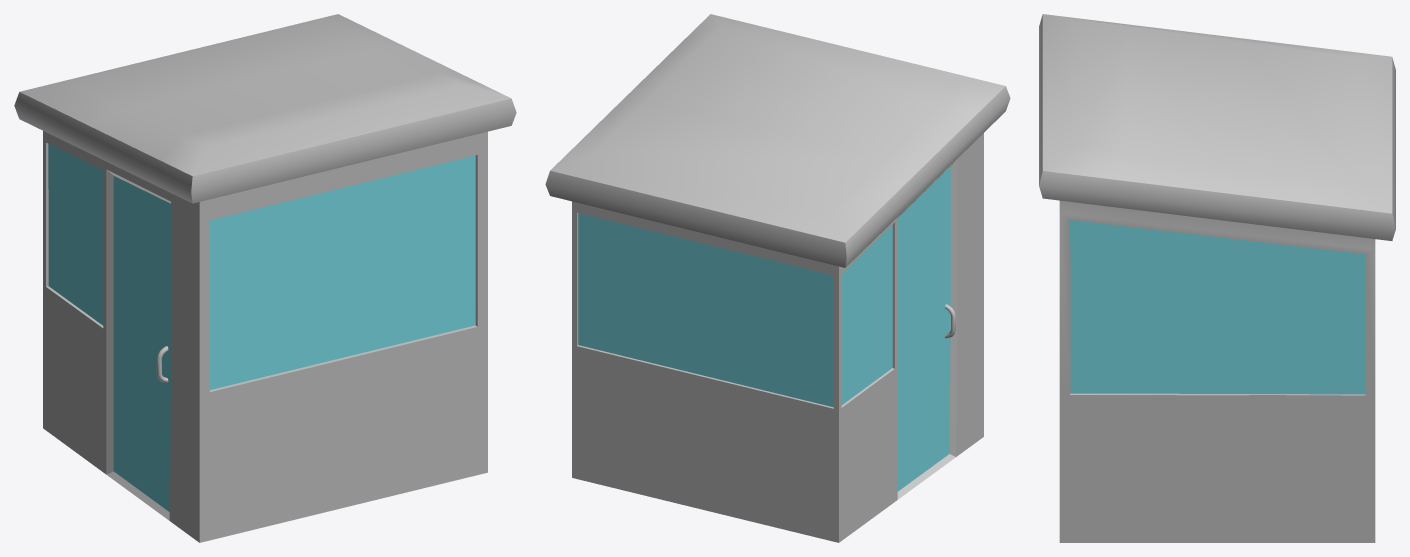
File: ART-MOD-A-BOOTH-001.FBX
3 views of the same model, side by side, from view 1: azimuth 30°, elevation 25°; view 2: azimuth 150°, elevation 25°; view 3: azimuth 270°, elevation 25° (orthographic). The views are drawn at different scales.
Parts seen in each view (by area): view 1: Box002; view 2: Box002; view 3: Box002.
Boxes of the visible parts, <box> form: Box002: <box>14,14,516,542</box>; Box002: <box>545,14,1010,542</box>; Box002: <box>1039,14,1395,542</box>.
Size of the model in its own units: 355 by 399 by 332.
